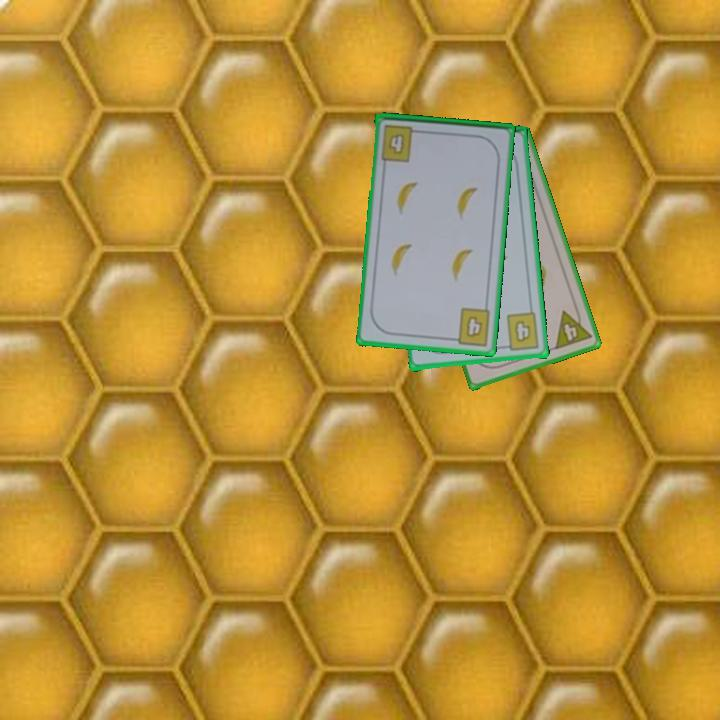4b: (447, 304, 493, 349), (498, 310, 542, 354), (378, 121, 423, 164)
4p: (551, 303, 595, 352)
